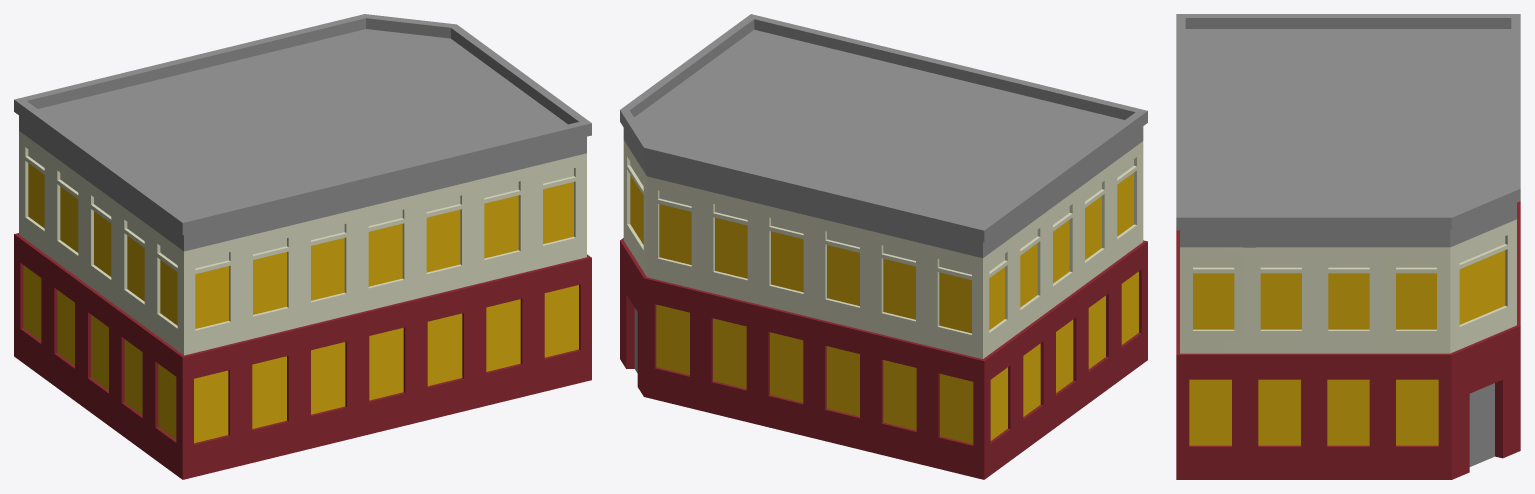
File: cornerbuilding.fbx
The picture shows the model from 3 angles, left to right: view 1: azimuth 30°, elevation 25°; view 2: azimuth 150°, elevation 25°; view 3: azimuth 270°, elevation 25°; orthographic projection. The views are drawn at different scales.
Parts seen in each view (by area): view 1: Cube; view 2: Cube; view 3: Cube.
Boxes of the visible parts, x1,y1,x2,y2 form: Cube: [14, 14, 591, 479]; Cube: [620, 14, 1147, 479]; Cube: [1176, 14, 1520, 479].
Bounding box in the file's own units: 700 × 420 × 500.
